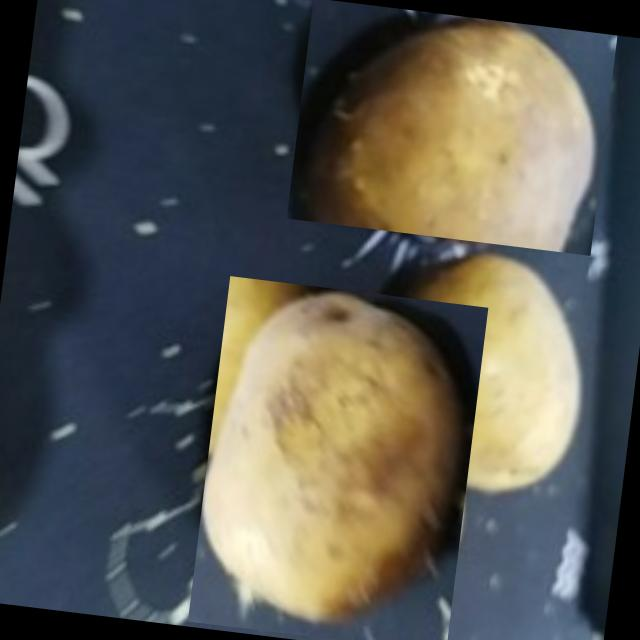Damaged potato: (187, 274, 487, 640)
Potato: (286, 0, 617, 254), (388, 244, 600, 510)
